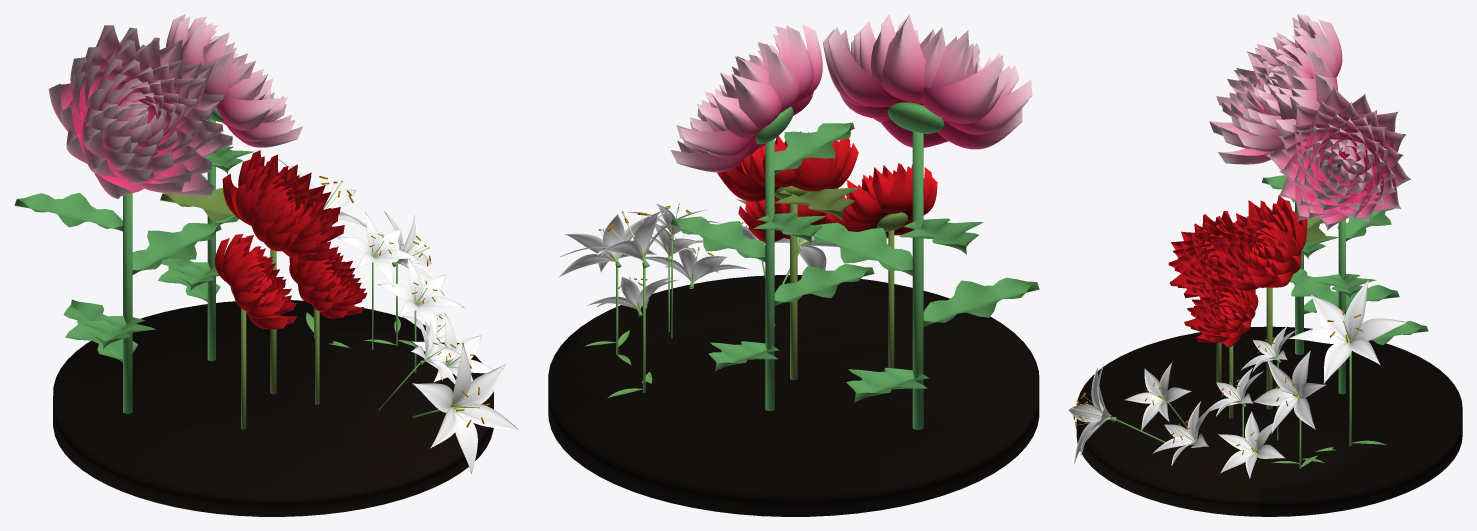
File: ohana.glb
The picture shows the model from 3 angles, left to right: view 1: azimuth 30°, elevation 25°; view 2: azimuth 150°, elevation 25°; view 3: azimuth 270°, elevation 25°; orthographic projection. The views are drawn at different scales.
Parts seen in each view (by area): view 1: Soil_Base, Leaf_2.001, Leaf_3.001, Stem.001, Leaf_0.001, Petal_77.002, Stem.002, Leaf_1.001, Leaf_3, Petal_Outer_2.004, Petal_74.002, Petal_Inner_2.004 (+15 smaller); view 2: Soil_Base, Stem.001, Petal_79.001, Leaf_1.001, Leaf_2.001, Petal_76.001, Stem.002, Petal_73.001, Leaf_4.002, Leaf_2.002, Leaf_1.002, Petal_76.002 (+26 smaller); view 3: Soil_Base, Leaf_1.002, Stem.002, Petal_Outer_0.002, Petal_Inner_0.002, Leaf_3.002, Petal_Inner_2.002, Leaf_2.002, Leaf_0.001, Petal_80.001, Petal_Inner_1.002, Petal_Outer_1.002 (+9 smaller).
Part boxes in pixels (<box>): Soil_Base: <box>53,300,493,516</box>; Leaf_2.001: <box>132,223,221,274</box>; Leaf_3.001: <box>14,192,123,231</box>; Stem.001: <box>123,193,132,413</box>; Leaf_0.001: <box>63,299,137,362</box>; Petal_77.002: <box>216,97,278,130</box>; Stem.002: <box>207,118,215,361</box>; Leaf_1.001: <box>76,316,155,349</box>; Leaf_3: <box>160,188,235,221</box>; Petal_Outer_2.004: <box>454,403,518,430</box>; Petal_74.002: <box>203,52,233,104</box>; Petal_Inner_2.004: <box>453,364,505,407</box>; Soil_Base: <box>548,275,1039,516</box>; Stem.001: <box>912,131,923,429</box>; Petal_79.001: <box>921,55,1002,123</box>; Leaf_1.001: <box>923,277,1039,326</box>; Leaf_2.001: <box>813,222,912,275</box>; Petal_76.001: <box>882,15,925,103</box>; Stem.002: <box>765,139,774,410</box>; Petal_73.001: <box>828,27,908,106</box>; Leaf_4.002: <box>774,122,854,174</box>; Leaf_2.002: <box>670,216,765,262</box>; Leaf_1.002: <box>774,264,874,305</box>; Petal_76.002: <box>731,74,781,128</box>; Soil_Base: <box>1076,326,1462,516</box>; Leaf_1.002: <box>1290,269,1338,307</box>; Stem.002: <box>1338,219,1345,394</box>; Petal_Outer_0.002: <box>1345,280,1368,340</box>; Petal_Inner_0.002: <box>1311,295,1348,341</box>; Leaf_3.002: <box>1337,208,1393,241</box>; Petal_Inner_2.002: <box>1350,318,1408,342</box>; Leaf_2.002: <box>1315,273,1376,299</box>; Leaf_0.001: <box>1302,284,1399,314</box>; Petal_80.001: <box>1218,148,1271,164</box>; Petal_Inner_1.002: <box>1323,341,1351,384</box>; Petal_Outer_1.002: <box>1288,327,1348,344</box>.
Size of the model in its own units: 13.94 by 13.64 by 13.56.
Materials: 10 (4 with a texture image).
